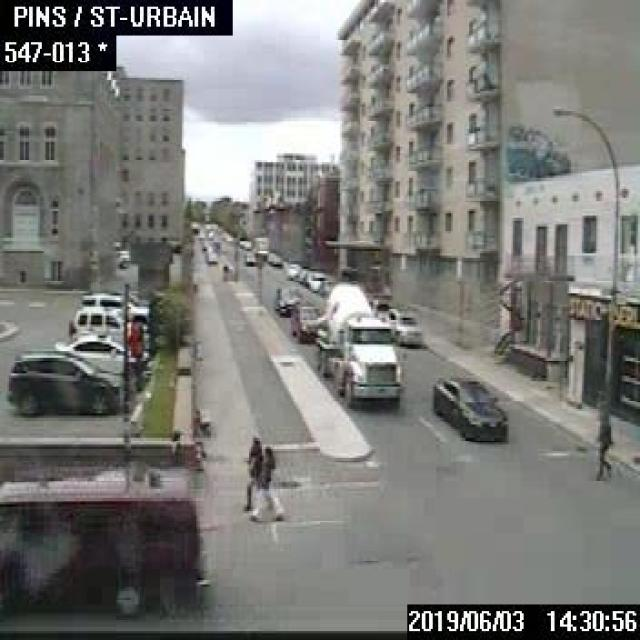pedestrian: (249, 444, 283, 519), (240, 436, 270, 510), (593, 406, 611, 476)
vehicle: (0, 469, 202, 618), (312, 278, 407, 404), (7, 348, 123, 412), (429, 372, 509, 440), (54, 332, 150, 378), (67, 304, 148, 345), (80, 289, 148, 321), (384, 303, 422, 344), (290, 302, 322, 342), (273, 284, 301, 312), (367, 296, 391, 319), (304, 269, 325, 290), (294, 265, 310, 282), (317, 278, 333, 293), (285, 262, 300, 276), (243, 250, 255, 264), (205, 250, 218, 262)
